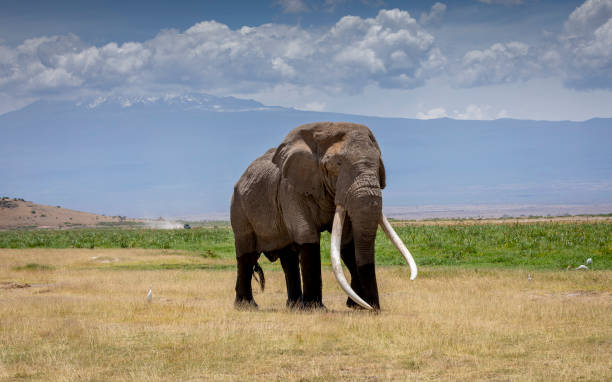africanelephant: (301, 128, 398, 283)
